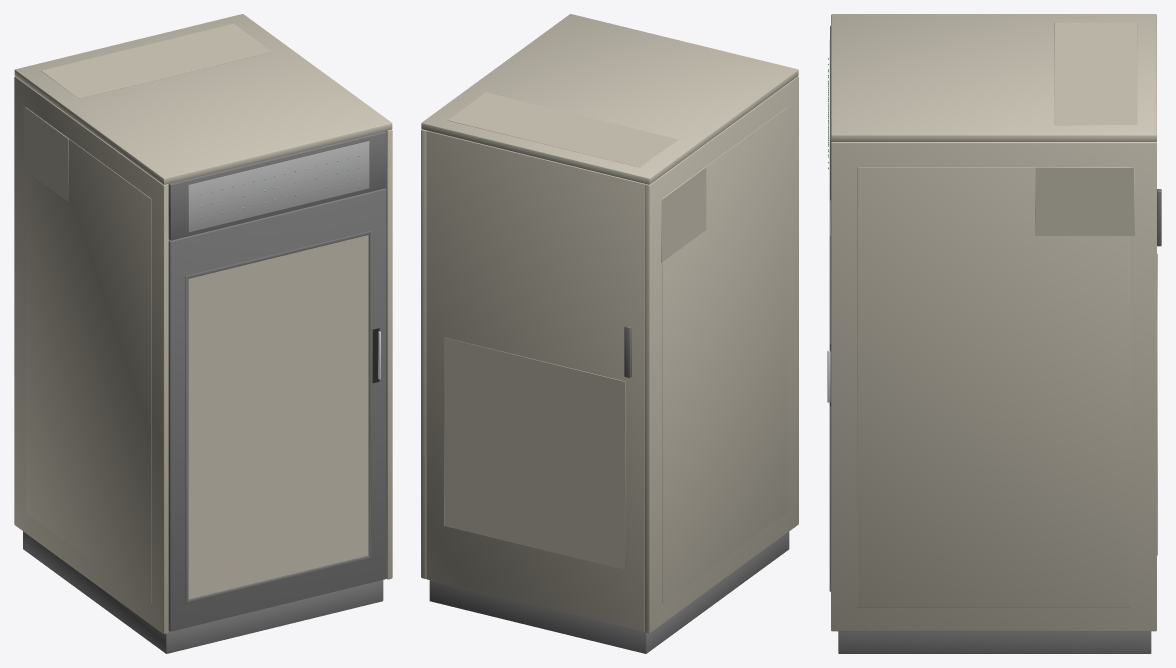
The model's file is Kit_SystemCabinet_Comms_Charcoal.fbx.
The picture shows the model from 3 angles, left to right: view 1: azimuth 30°, elevation 25°; view 2: azimuth 150°, elevation 25°; view 3: azimuth 270°, elevation 25°; orthographic projection. The views are drawn at different scales.
Parts seen in each view (by area): view 1: Kit_SystemCabinet_Comms_LOD0; view 2: Kit_SystemCabinet_Comms_LOD0; view 3: Kit_SystemCabinet_Comms_LOD0.
Boxes of the visible parts, <box> form: Kit_SystemCabinet_Comms_LOD0: <box>14,14,392,653</box>; Kit_SystemCabinet_Comms_LOD0: <box>421,14,798,653</box>; Kit_SystemCabinet_Comms_LOD0: <box>827,14,1161,653</box>.
Size of what is drawn, in the model's own units: 0.7671 by 1.52 by 0.881.
